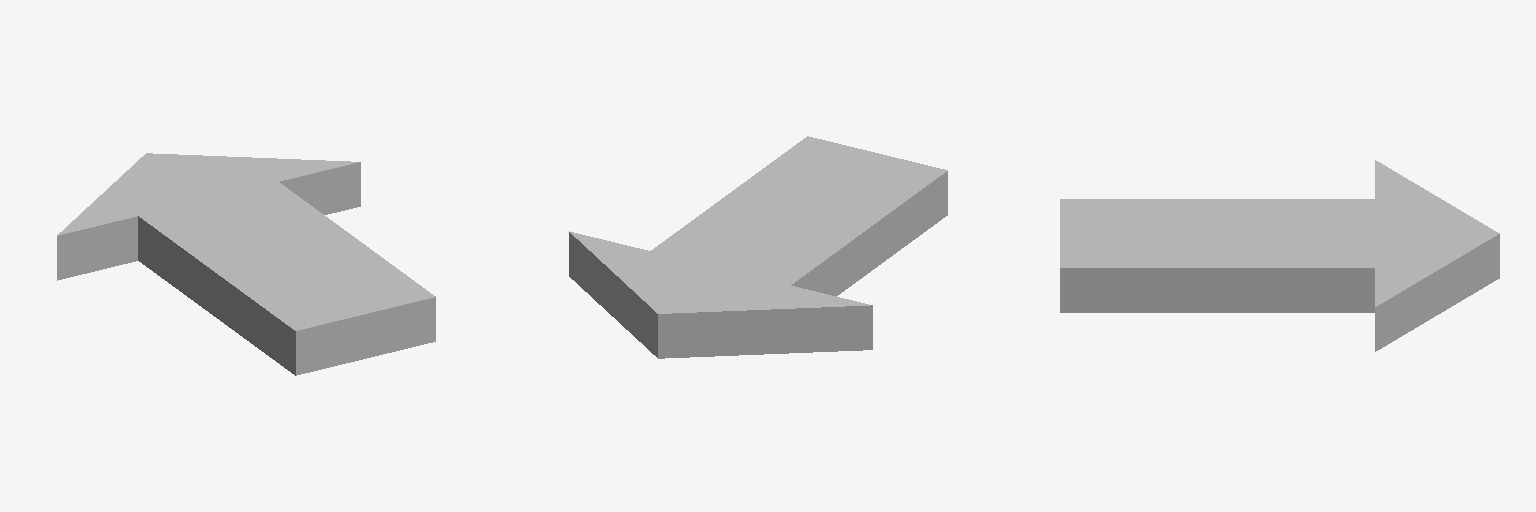
The model's file is Arrow.obj.
3 renders of one model, left to right at view 1: azimuth 30°, elevation 25°; view 2: azimuth 150°, elevation 25°; view 3: azimuth 270°, elevation 25°, orthographic.
Visible parts, largest first — view 1: pCube1; view 2: pCube1; view 3: pCube1.
Boxes of the visible parts, box(x1,y1,x2,y2) form: pCube1: box(57, 153, 435, 375); pCube1: box(569, 136, 947, 358); pCube1: box(1060, 160, 1499, 351).
Size of the model in its own units: 2.16 by 0.3039 by 2.71.